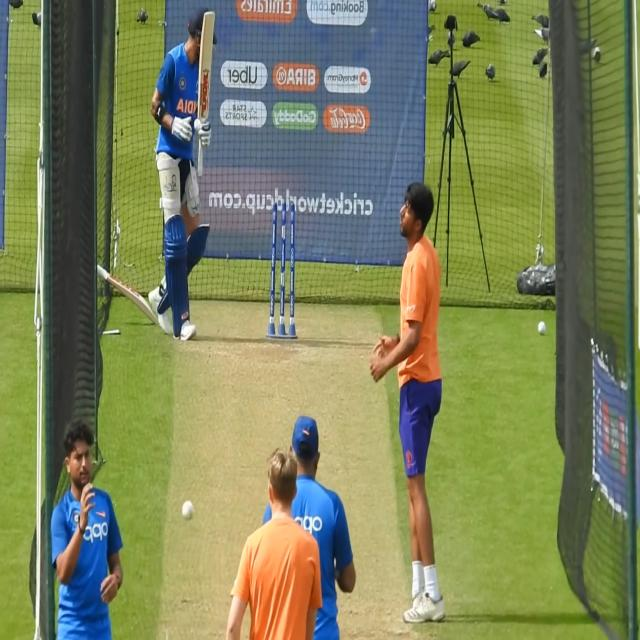ball: (179, 496, 195, 526), (536, 319, 547, 338)
stump: (268, 197, 296, 339)
